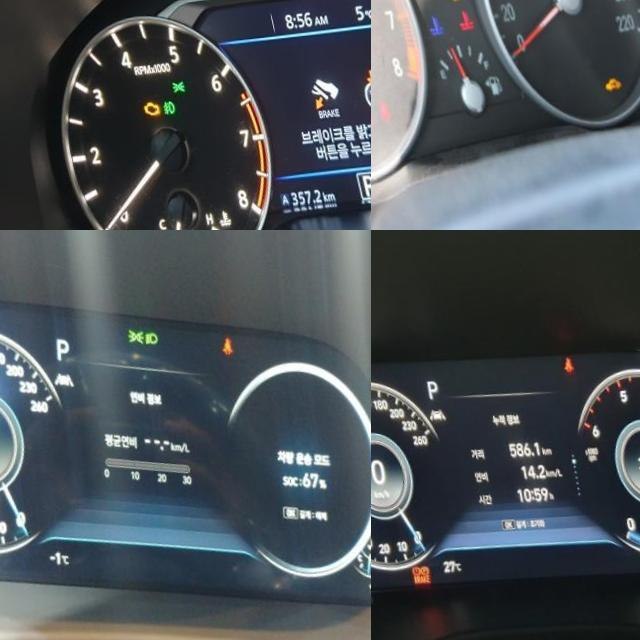Engine cooling system: (440, 15, 458, 36)
FrontFogLight: (147, 103, 161, 119)
LaneCenteringOff: (416, 412, 435, 426)
Low beam: (133, 337, 151, 352)
SideLamp: (117, 333, 137, 352), (156, 83, 172, 97)
